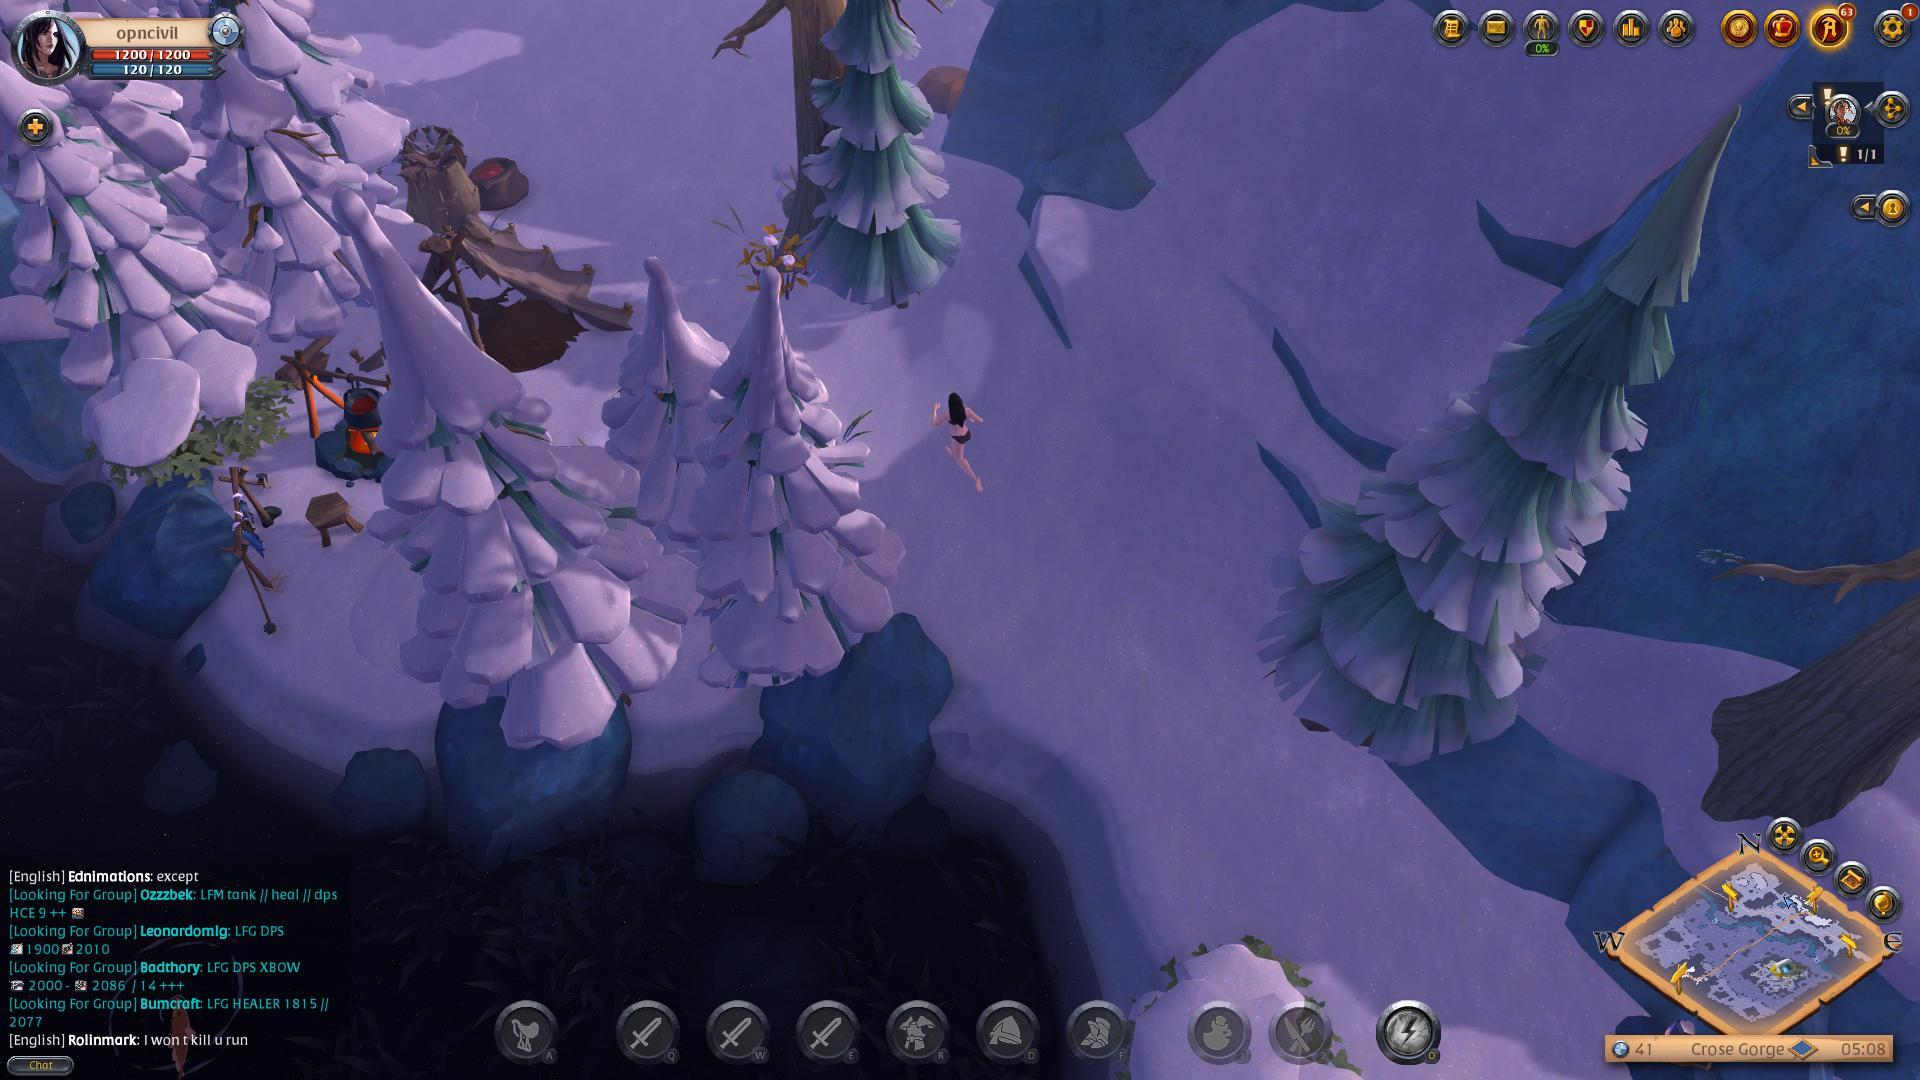cotton: (744, 220, 824, 297)
